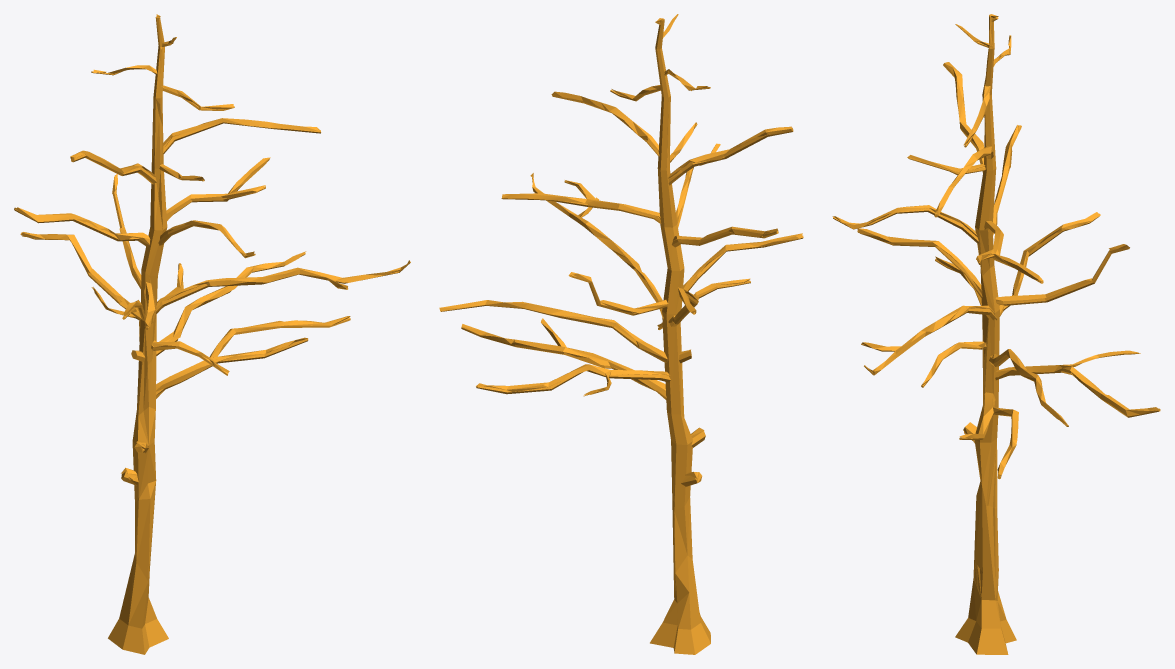
Rendered from SM_Tree_Pine_Dead_A_Snow.fbx.
3 views of the same model, side by side, from view 1: azimuth 30°, elevation 25°; view 2: azimuth 150°, elevation 25°; view 3: azimuth 270°, elevation 25° (orthographic). The views are drawn at different scales.
Parts seen in each view (by area): view 1: tree-pine-dead-a-snow; view 2: tree-pine-dead-a-snow; view 3: tree-pine-dead-a-snow.
Part boxes in pixels (x1,y1,x2,y2): tree-pine-dead-a-snow: [14, 14, 410, 654]; tree-pine-dead-a-snow: [439, 14, 803, 654]; tree-pine-dead-a-snow: [832, 14, 1160, 654].
Size of the model in its own units: 6.36 by 11.53 by 5.38.
